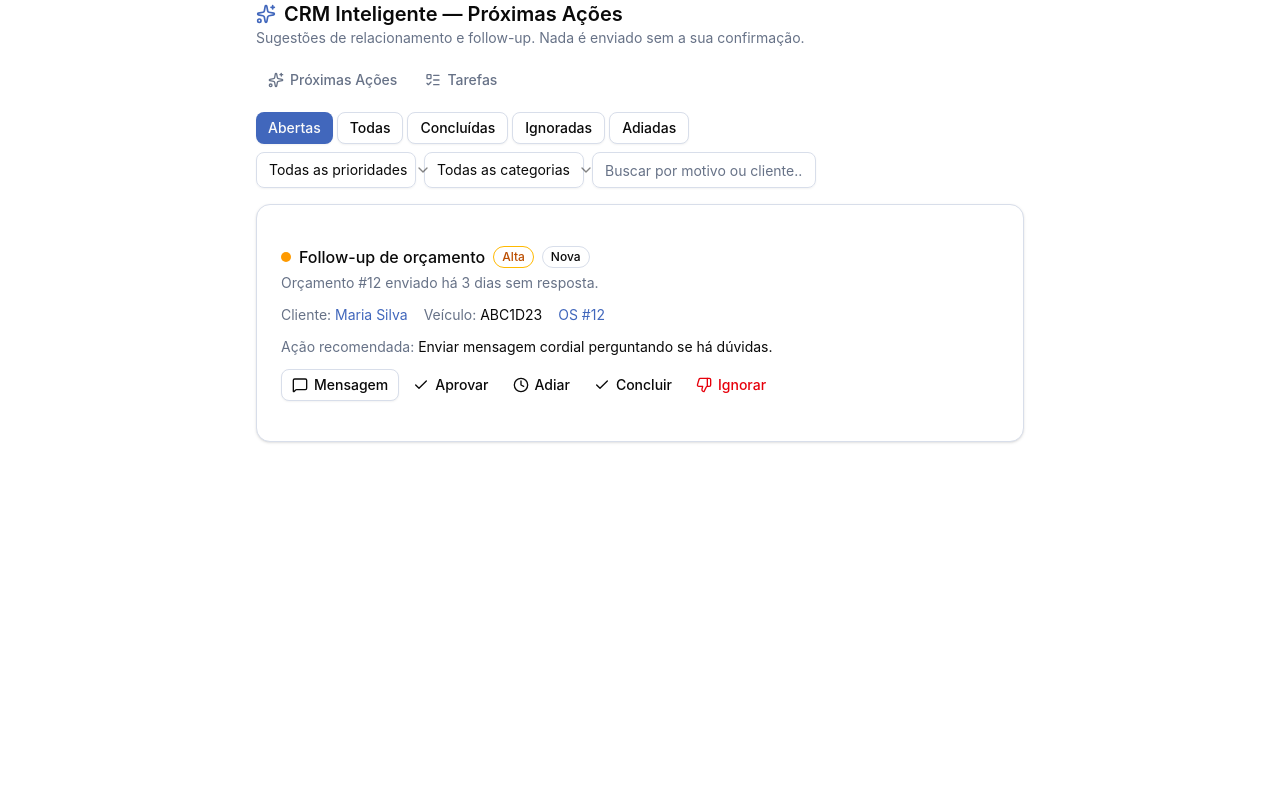
Test case: CRM — Próximas Ações › generates an AI message in the dialog
The image size is (1280, 800).
Expected: the text "Follow-up de orçamento" is shown, [299,245,485,269]
Click the button "Mensagem": (340, 385) [281,369,399,401]
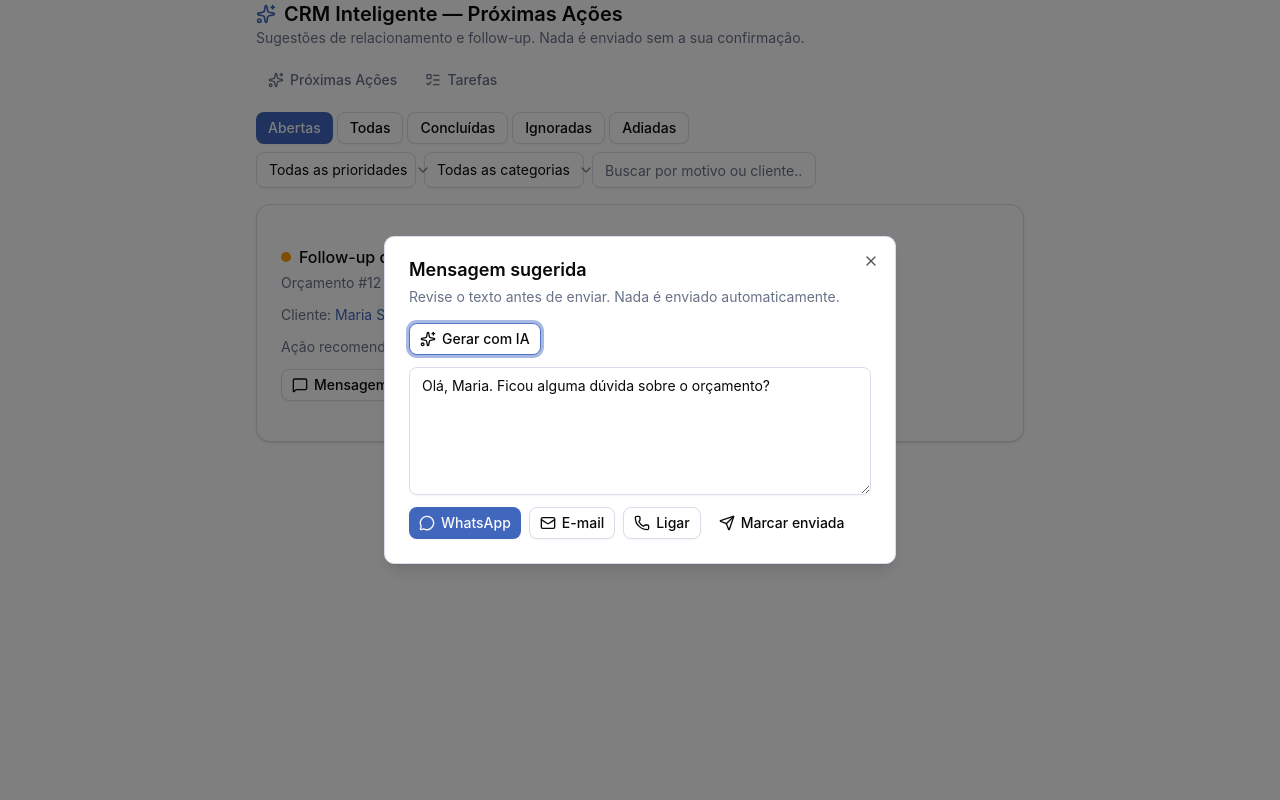
Result: the heading "Mensagem sugerida" is shown at [409,259,586,280]
Click the button "Gerar com IA": (475, 339) [409,323,541,355]
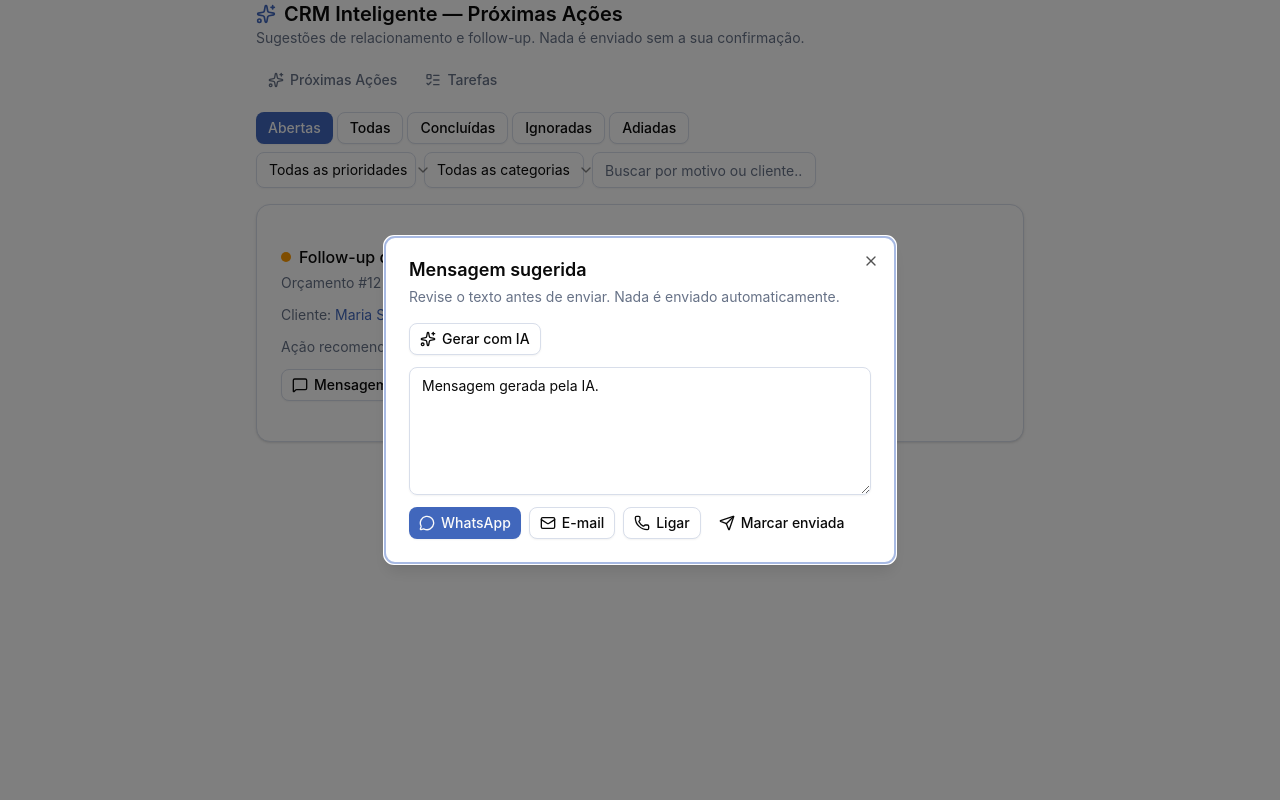
Result: the text box showing "Mensagem gerada pela IA." is shown at [409,367,871,495]
